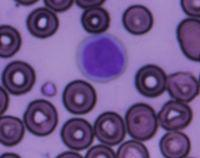L: (75, 32, 129, 82)
